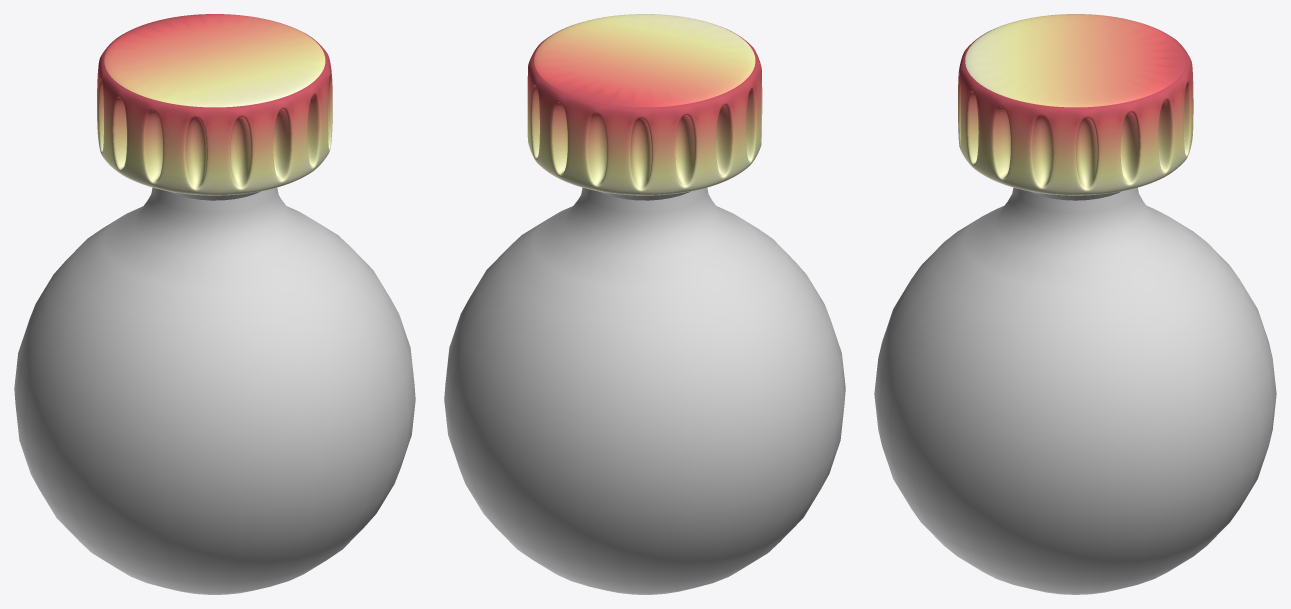
File: Agua.fbx
The picture shows the model from 3 angles, left to right: view 1: azimuth 30°, elevation 25°; view 2: azimuth 150°, elevation 25°; view 3: azimuth 270°, elevation 25°; orthographic projection.
Visible parts, largest first — view 1: Sphere.004, Cylinder.005; view 2: Sphere.004, Cylinder.005; view 3: Sphere.004, Cylinder.005.
Part boxes in pixels (x1,y1,x2,y2): Sphere.004: (14,187,415,594); Cylinder.005: (97,14,332,195); Sphere.004: (444,187,845,594); Cylinder.005: (527,14,762,195); Sphere.004: (874,187,1276,594); Cylinder.005: (958,14,1193,195).
Bounding box in the file's own units: 900 × 1280 × 900.
